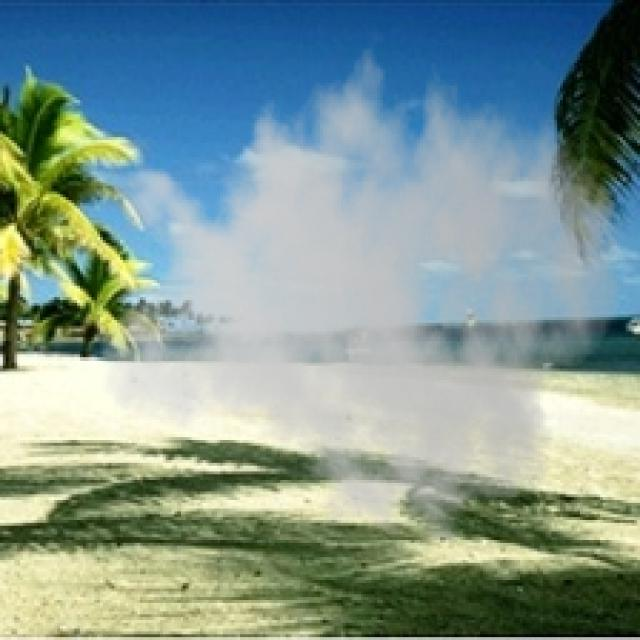smoke: (97, 23, 623, 560)
